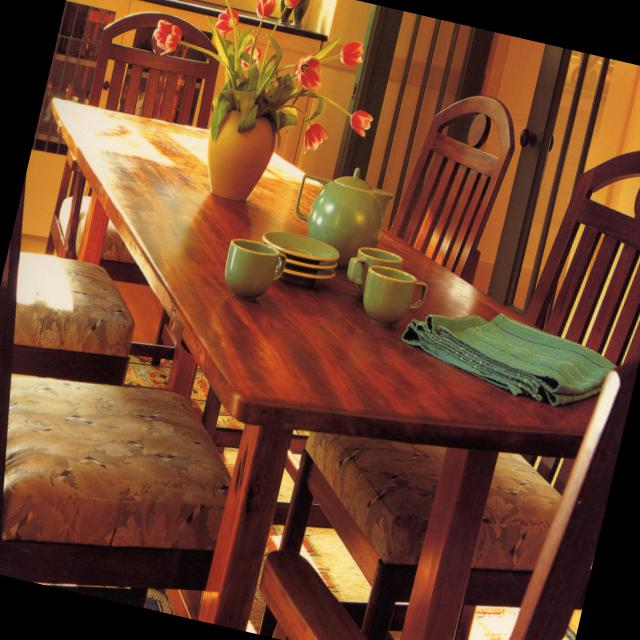dish -X: (268, 231, 339, 258)
mug: (362, 265, 426, 328), (226, 237, 284, 300)
pot hanger: (209, 104, 276, 201)
